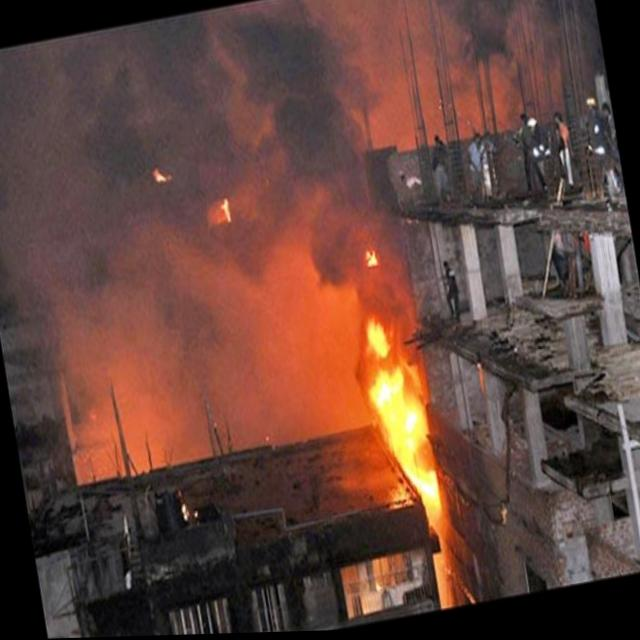fire: (344, 299, 448, 534), (146, 158, 178, 193), (357, 236, 382, 275), (216, 192, 238, 229)
